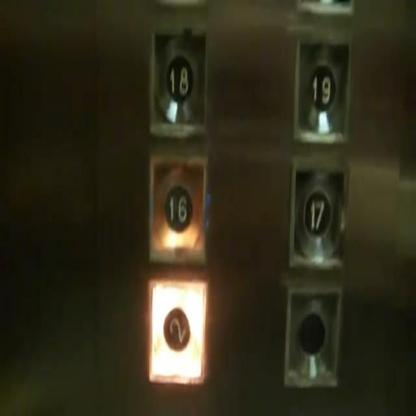16: (145, 148, 208, 262)
17: (286, 153, 348, 272)
18: (147, 23, 208, 138)
19: (292, 32, 352, 146)
2: (147, 276, 208, 388)
empty: (284, 284, 342, 388)
